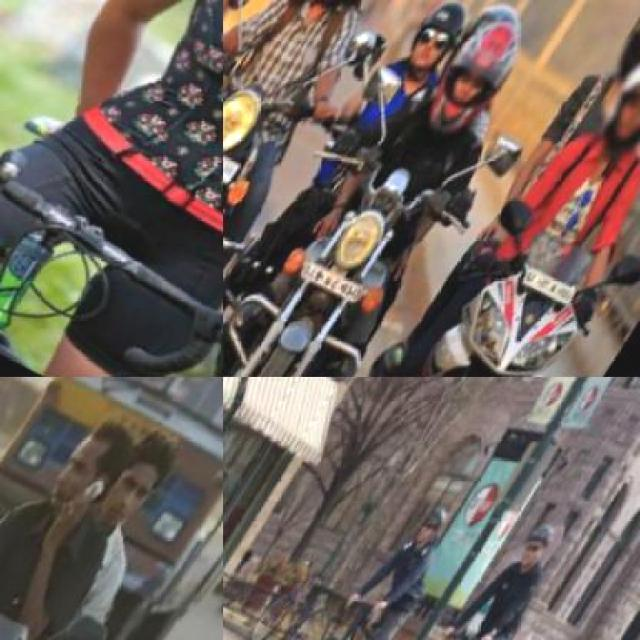With Helmet: (407, 10, 544, 159), (577, 42, 638, 186), (397, 0, 486, 91), (289, 0, 423, 31), (603, 1, 639, 114), (410, 502, 467, 566), (518, 518, 574, 579)
Without Helmet: (42, 404, 162, 542), (90, 420, 199, 549)
